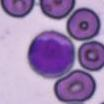M: (26, 30, 76, 78)
